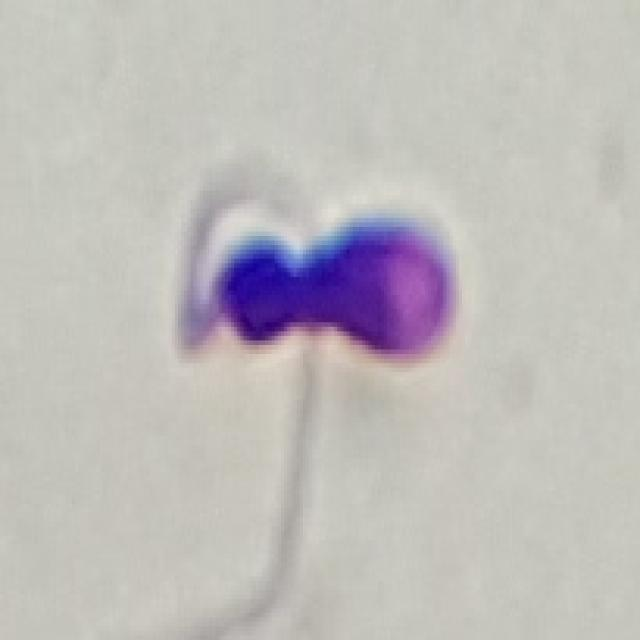abnormal sperm: (154, 154, 458, 589)
